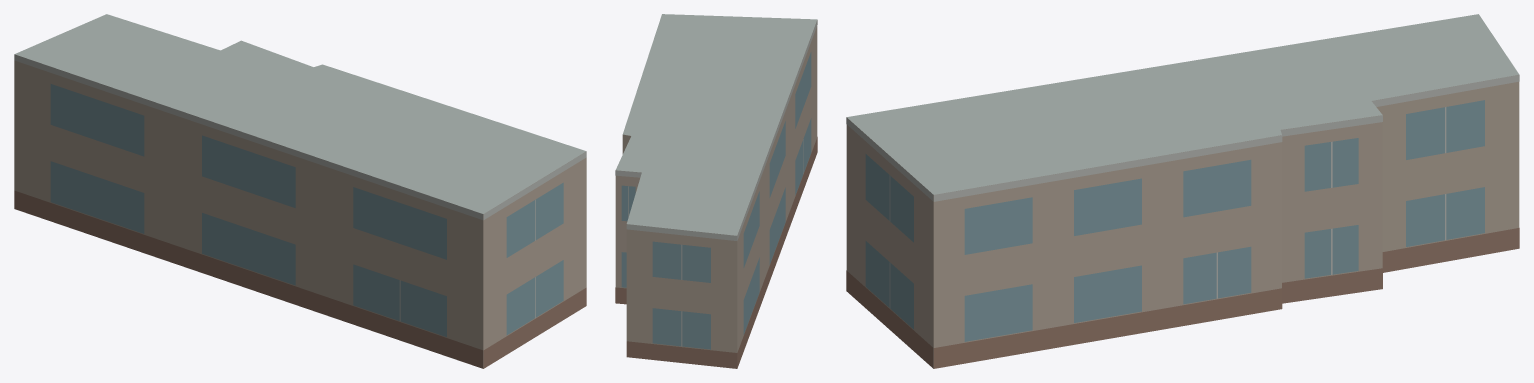
File: survey-upis-32639718.glb
3 renders of one model, left to right at view 1: azimuth 30°, elevation 25°; view 2: azimuth 150°, elevation 25°; view 3: azimuth 270°, elevation 25°, orthographic. The views are drawn at different scales.
Parts seen in each view (by area): view 1: survey-upis-32639718.tmp; view 2: survey-upis-32639718.tmp; view 3: survey-upis-32639718.tmp.
Boxes of the visible parts, x1,y1,x2,y2 form: survey-upis-32639718.tmp: (14, 14, 586, 368); survey-upis-32639718.tmp: (615, 14, 817, 368); survey-upis-32639718.tmp: (846, 14, 1519, 368).
Bounding box in the file's own units: 13.62 × 6.1 × 21.4.
